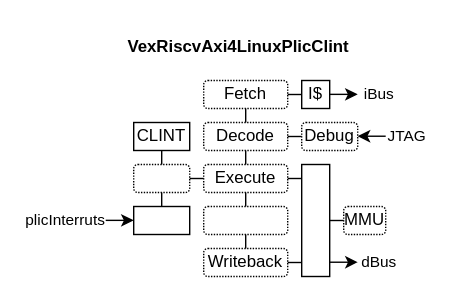
The diagram is 449 pixels wide and 301 high, and some of its shapes have lost their labels. Here are the shapes that lost their labels. From the top down, the centre of each, then its label:
At (x=161, y=177): "CSR".
At (x=161, y=219): "PLIC".
At (x=245, y=219): "Memory".
At (x=315, y=219): "D$".
